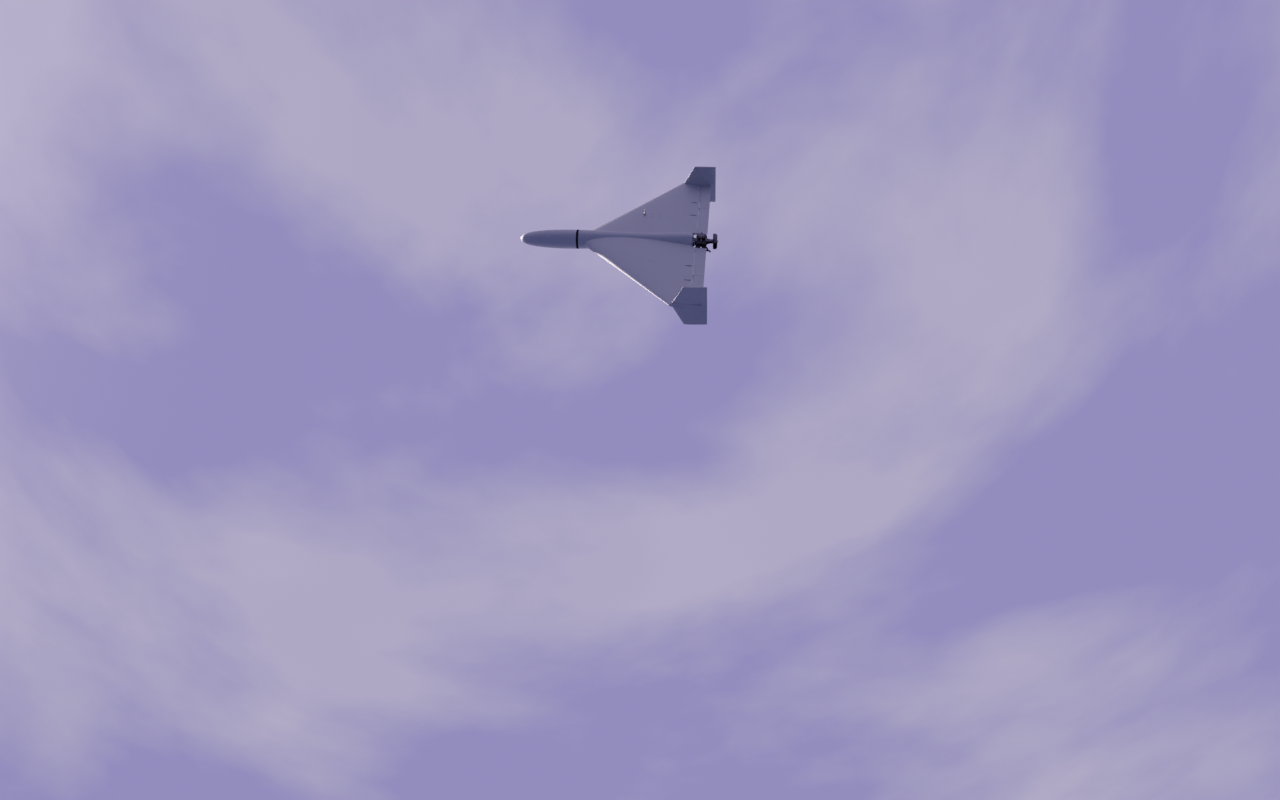shahed: (521, 166, 720, 327)
